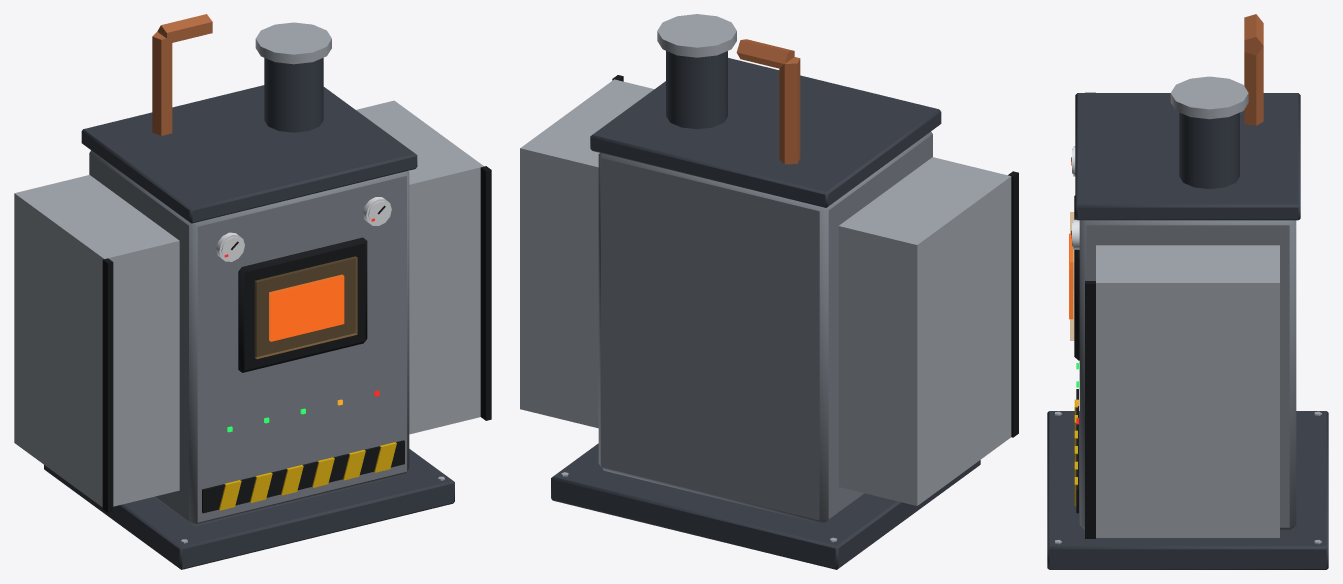
The model's file is reactor_auxiliary_reactor.glb.
3 views of the same model, side by side, from view 1: azimuth 30°, elevation 25°; view 2: azimuth 150°, elevation 25°; view 3: azimuth 270°, elevation 25° (orthographic). The views are drawn at different scales.
Parts seen in each view (by area): view 1: reactor_auxiliary_reactor; view 2: reactor_auxiliary_reactor; view 3: reactor_auxiliary_reactor.
Part boxes in pixels (left/top/right/bottom): reactor_auxiliary_reactor: left=14, top=14, right=491, bottom=569; reactor_auxiliary_reactor: left=520, top=14, right=1018, bottom=569; reactor_auxiliary_reactor: left=1047, top=14, right=1328, bottom=569.
Bounding box in the file's own units: 2.09 × 2.35 × 1.3.
